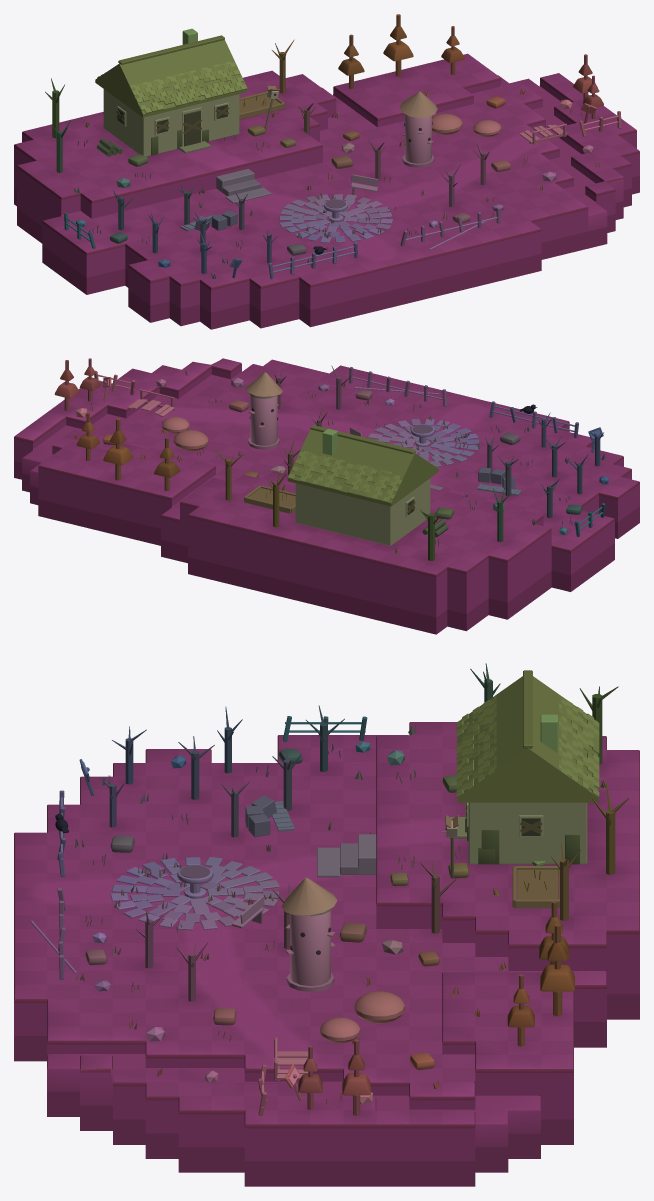
The model's file is grass_1_withered.glb.
3 views of the same model, one above another, from view 1: azimuth 30°, elevation 25°; view 2: azimuth 150°, elevation 25°; view 3: azimuth 270°, elevation 25° (orthographic). The views are drawn at different scales.
Visible parts, largest first — view 1: Terrain.001, Buildings, Props, Trees, Greenery; view 2: Terrain.001, Buildings, Props, Trees, Greenery; view 3: Terrain.001, Buildings, Props, Trees, Greenery.
Part boxes in pixels (<box>): Terrain.001: <box>14,53,639,329</box>; Buildings: <box>95,28,437,167</box>; Props: <box>64,85,621,279</box>; Trees: <box>45,14,603,273</box>; Greenery: <box>74,89,600,278</box>; Terrain.001: <box>14,358,639,634</box>; Buildings: <box>245,372,438,545</box>; Props: <box>76,367,608,537</box>; Trees: <box>54,358,603,560</box>; Greenery: <box>74,369,605,553</box>; Terrain.001: <box>14,722,639,1186</box>; Buildings: <box>281,670,599,991</box>; Props: <box>30,716,559,1115</box>; Trees: <box>100,663,629,1115</box>; Greenery: <box>75,725,606,1103</box>.
Size of the model in its own units: 28 by 7.38 by 19.
41 materials, 1 textured.
